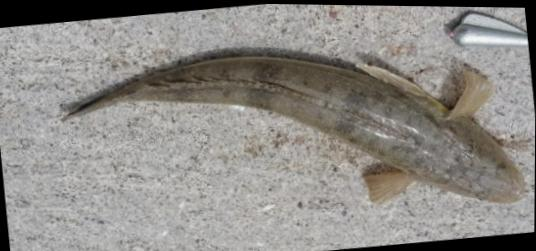fish: (57, 53, 526, 203)
